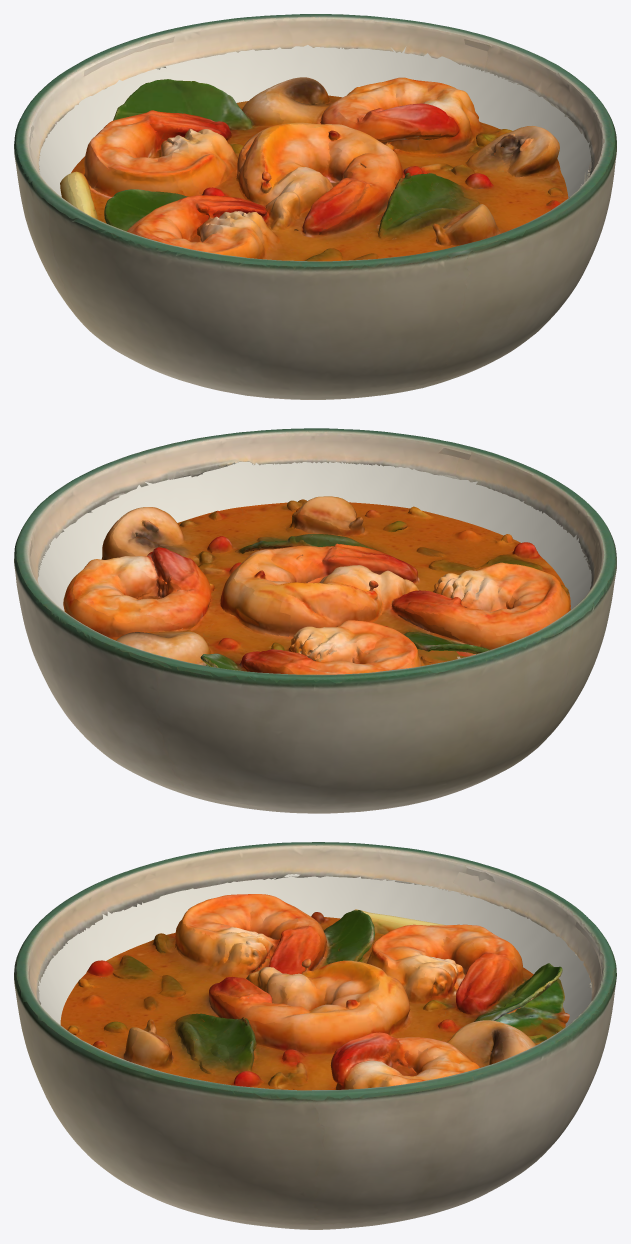
File: tom-yum-1.glb
3 views of the same model, one above another, from view 1: azimuth 30°, elevation 25°; view 2: azimuth 150°, elevation 25°; view 3: azimuth 270°, elevation 25° (orthographic).
Visible parts, largest first — view 1: canonical/sourceCeramic, food/independent-stage-1, canonical/inner-bowl-completion; view 2: canonical/sourceCeramic, food/independent-stage-1, canonical/inner-bowl-completion; view 3: canonical/sourceCeramic, food/independent-stage-1, canonical/inner-bowl-completion.
Part boxes in pixels (left/top/right/bottom): canonical/sourceCeramic: left=14, top=14, right=616, bottom=399; food/independent-stage-1: left=60, top=77, right=568, bottom=261; canonical/inner-bowl-completion: left=38, top=45, right=591, bottom=197; canonical/sourceCeramic: left=14, top=428, right=616, bottom=813; food/independent-stage-1: left=63, top=496, right=570, bottom=674; canonical/inner-bowl-completion: left=37, top=462, right=591, bottom=610; canonical/sourceCeramic: left=14, top=842, right=616, bottom=1229; food/independent-stage-1: left=60, top=894, right=569, bottom=1090; canonical/inner-bowl-completion: left=38, top=874, right=591, bottom=1026.
Size of the model in its own units: 2.61 by 0.8381 by 2.6.
3 materials, 2 textured.
